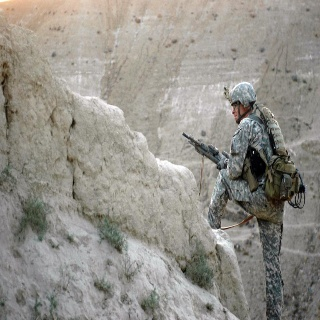rifle: (180, 131, 232, 167)
